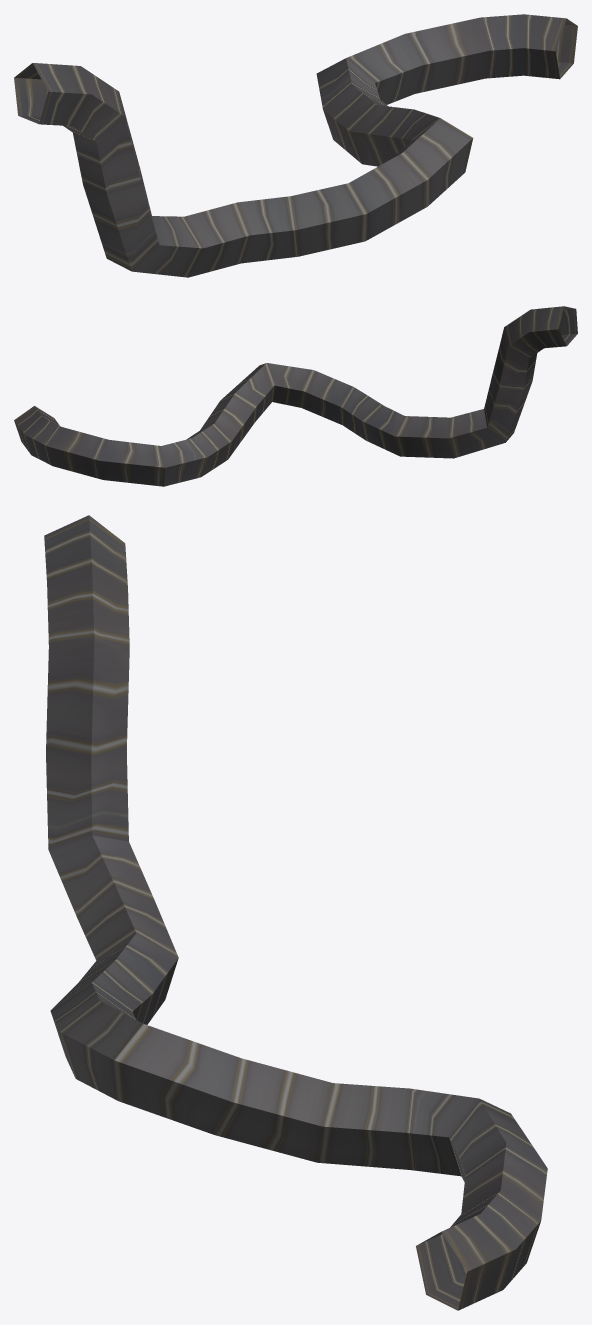
Rendered from Brewing_Things_UV.fbx.
3 views of the same model, one above another, from view 1: azimuth 30°, elevation 25°; view 2: azimuth 150°, elevation 25°; view 3: azimuth 270°, elevation 25° (orthographic). The views are drawn at different scales.
Parts seen in each view (by area): view 1: Cable; view 2: Cable; view 3: Cable.
Boxes of the visible parts, box(x1,y1,x2,y2) form: Cable: box(14, 14, 577, 277); Cable: box(14, 306, 577, 486); Cable: box(44, 515, 547, 1310).
Bounding box in the file's own units: 24.96 × 9.28 × 11.79.
